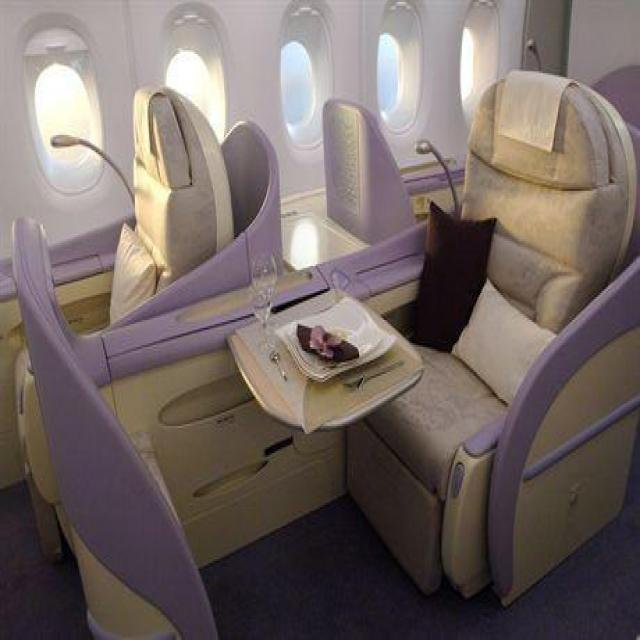chimni: (295, 322, 359, 362)
glass: (249, 250, 278, 350)
indoor-plant: (0, 2, 639, 638)
pillows: (449, 276, 558, 406), (410, 198, 497, 351), (109, 222, 157, 326)
sofa: (314, 68, 638, 608)
table: (225, 287, 423, 434)
windows: (21, 21, 106, 195), (159, 4, 228, 144), (277, 0, 334, 152), (374, 0, 423, 133), (458, 0, 499, 127)
